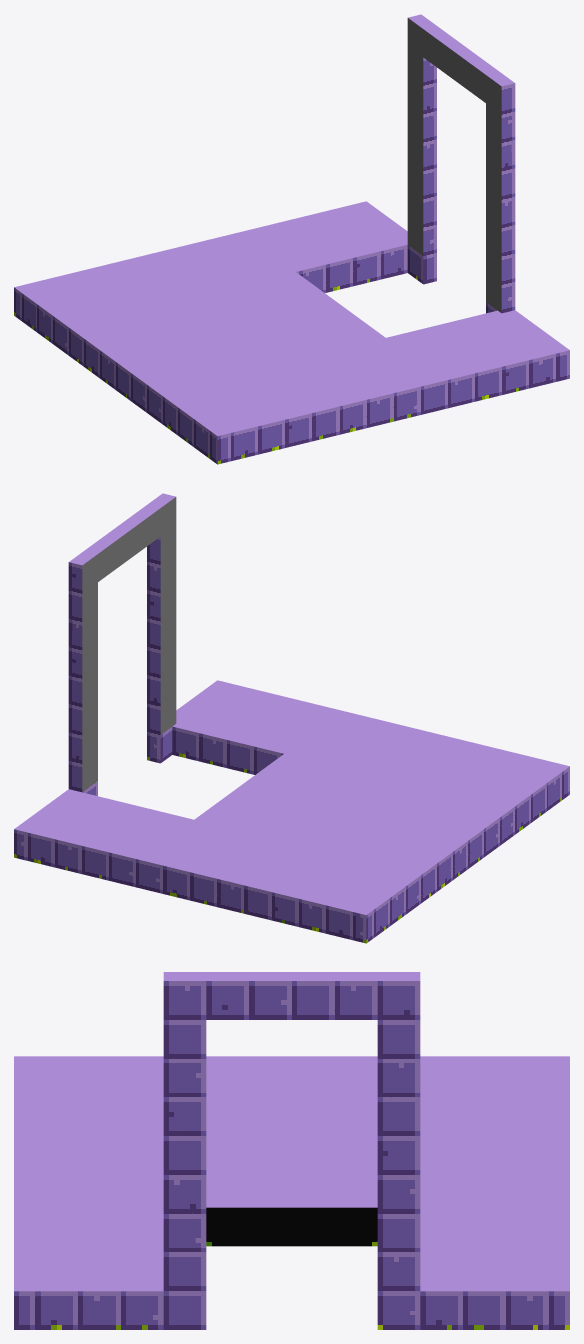
Rendered from hubdoors_bao.fezao.glb.
3 renders of one model, top to bottom at view 1: azimuth 30°, elevation 25°; view 2: azimuth 150°, elevation 25°; view 3: azimuth 270°, elevation 25°, orthographic. The views are drawn at different scales.
Visible parts, largest first — view 1: HUBDOORS_BAO; view 2: HUBDOORS_BAO; view 3: HUBDOORS_BAO.
Boxes of the visible parts, x1,y1,x2,y2 form: HUBDOORS_BAO: (14,14,569,464); HUBDOORS_BAO: (14,493,569,943); HUBDOORS_BAO: (14,972,569,1329).
Bounding box in the file's own units: 6.5 × 4.5 × 6.5.
Materials: 1 (1 with a texture image).
